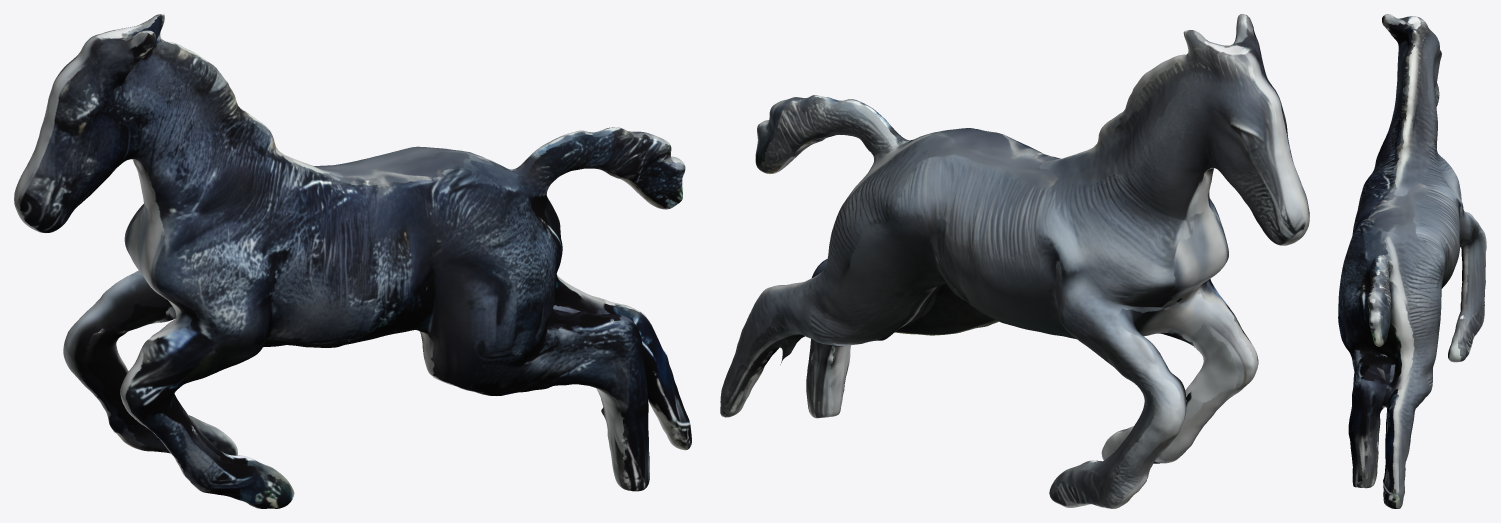
The model's file is bebe.glb.
The picture shows the model from 3 angles, left to right: view 1: azimuth 30°, elevation 25°; view 2: azimuth 150°, elevation 25°; view 3: azimuth 270°, elevation 25°; orthographic projection. The views are drawn at different scales.
Visible parts, largest first — view 1: mesh; view 2: mesh; view 3: mesh.
Part boxes in pixels (x1,y1,x2,y2): mesh: (14, 14, 691, 508); mesh: (720, 14, 1309, 508); mesh: (1338, 14, 1486, 508).
Size of the model in its own units: 1.56 by 1.27 by 0.5119.
Materials: 1 (1 with a texture image).
